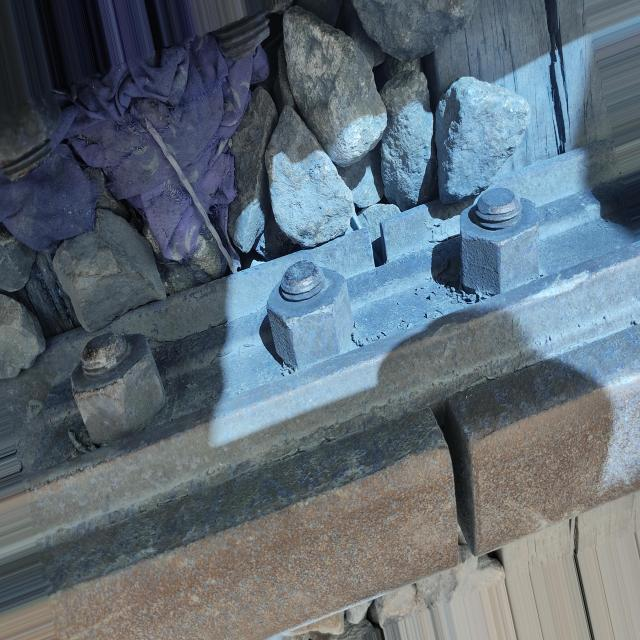crack: (428, 372, 486, 578)
